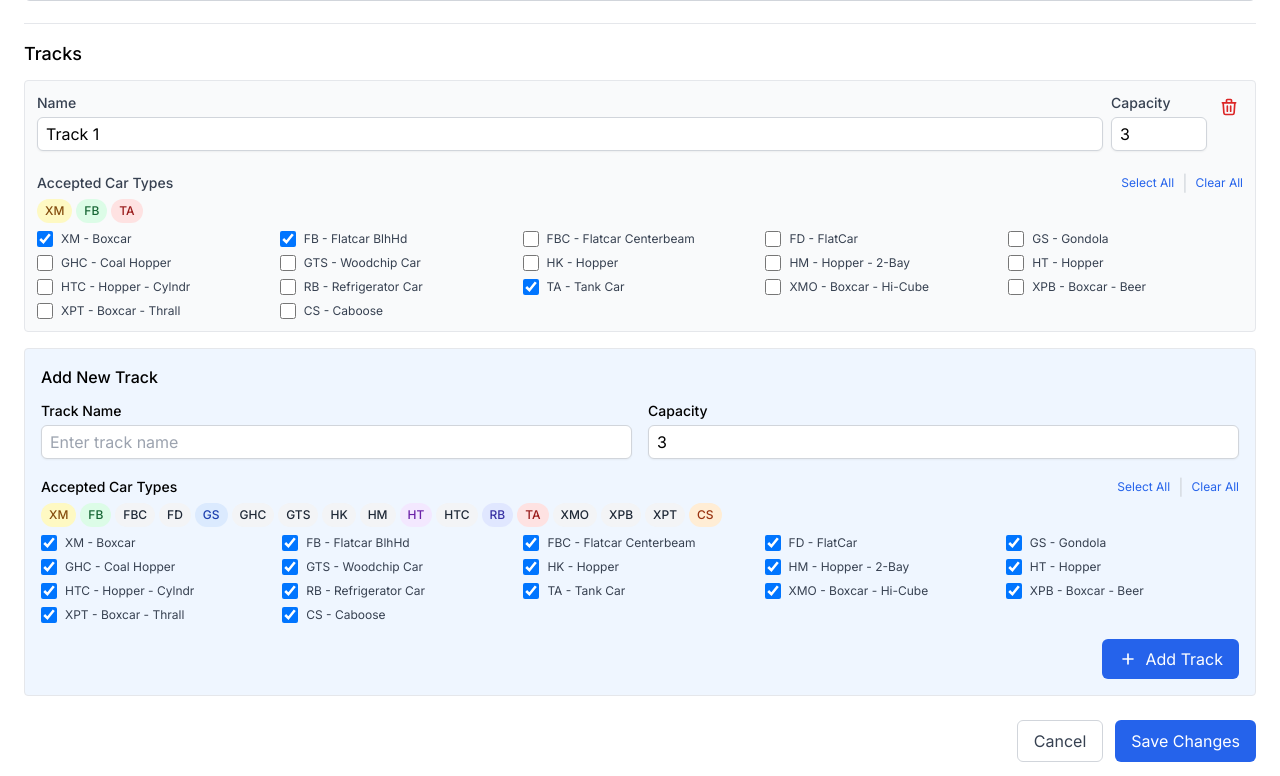
Test: EditIndustryForm › allows adding a new track
(page scrolled)
# Enter new track information using testids
Type "New Track" into the field with test id "new-track-name" at [336, 442], box left=41, top=425, right=632, bottom=459
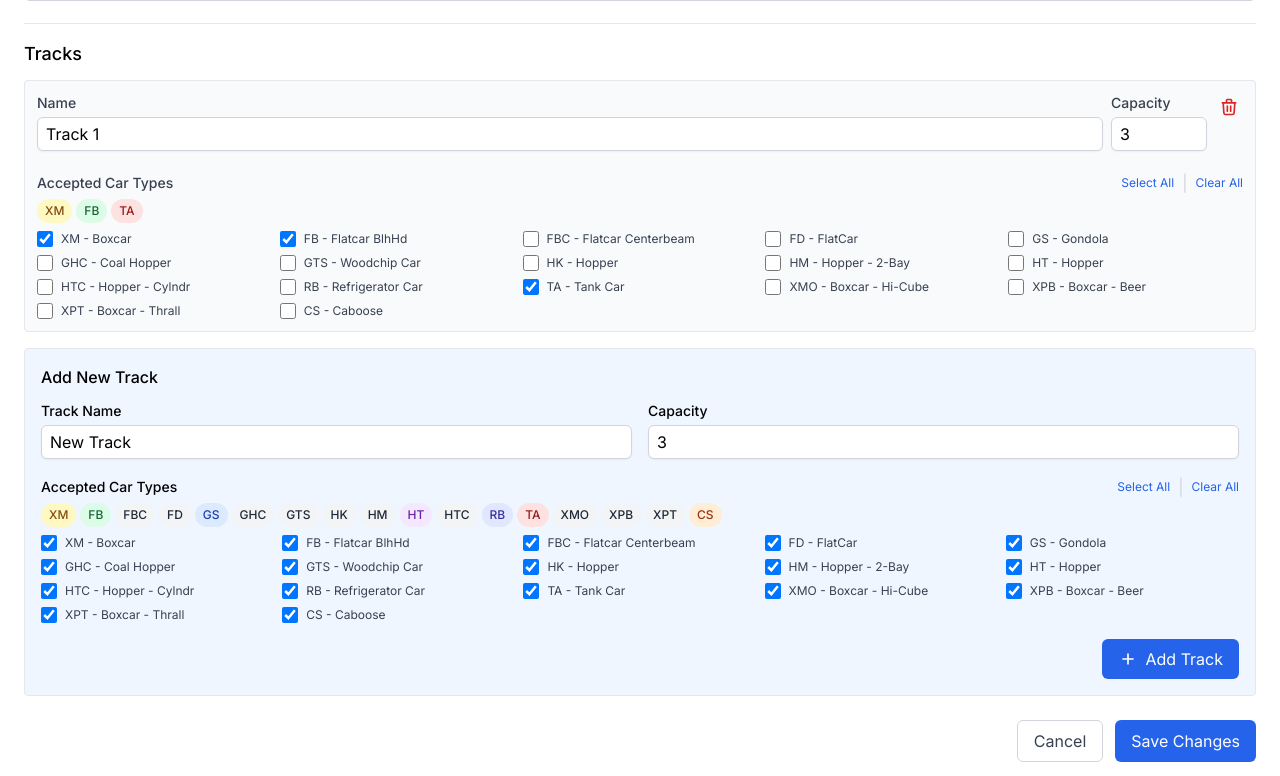
Replace the text in the number field with test id "new-track-capacity" with "5" at [944, 442], box left=648, top=425, right=1239, bottom=459
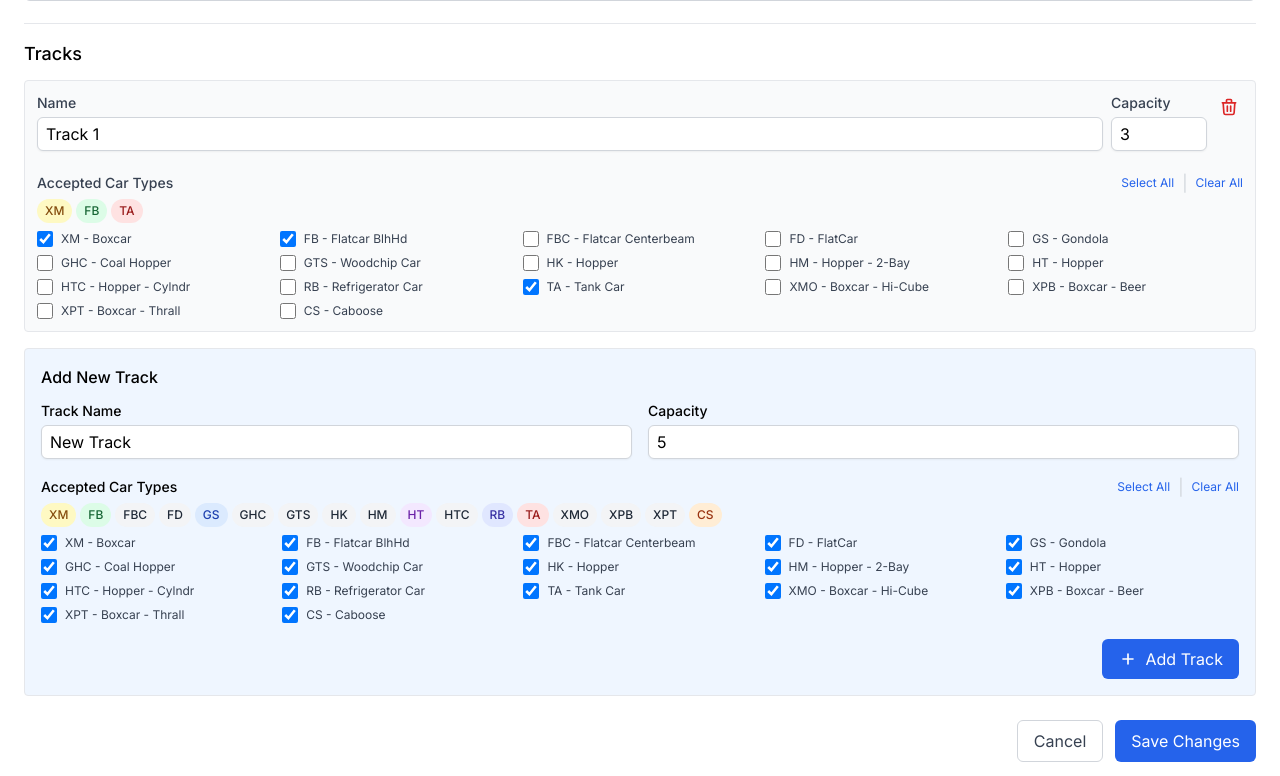
# Click add button
Click the button with test id "add-track-button" at [1170, 659], box left=1102, top=639, right=1239, bottom=679
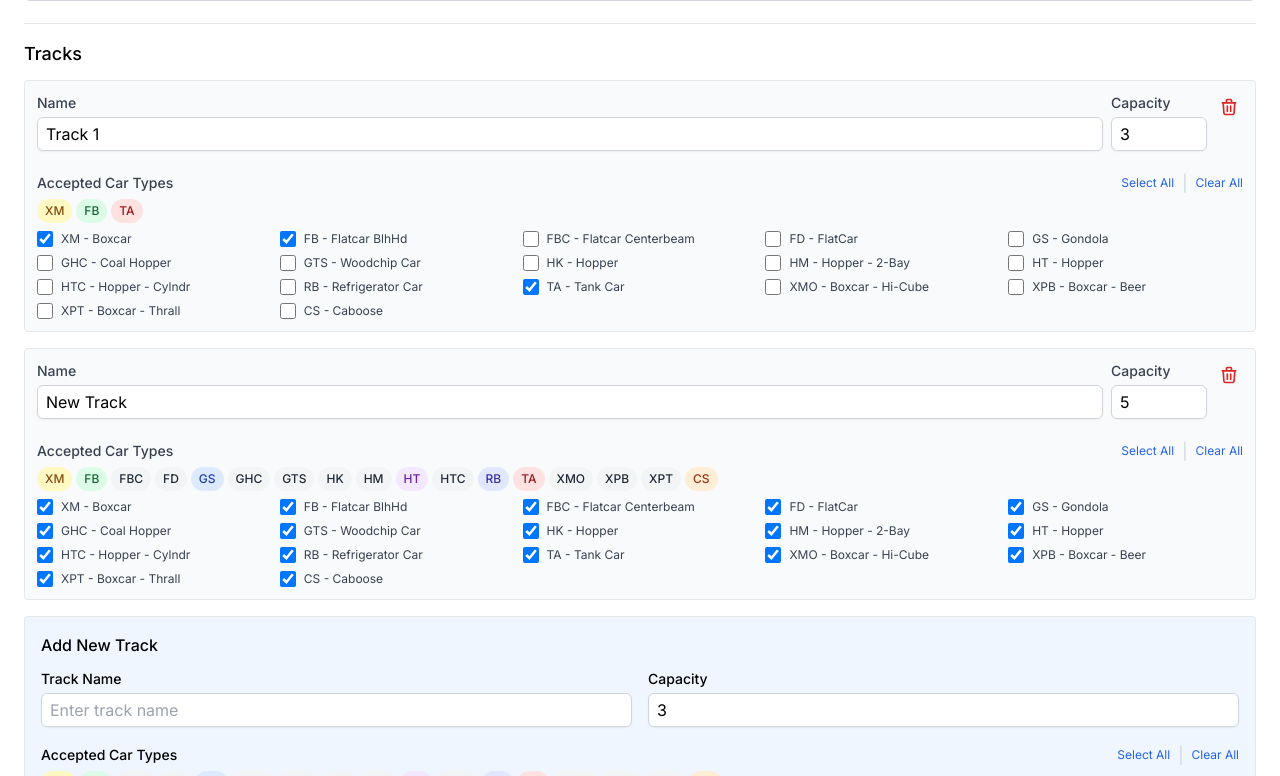
Result: the 2nd field showing "New Track" is shown at left=37, top=385, right=1103, bottom=419
